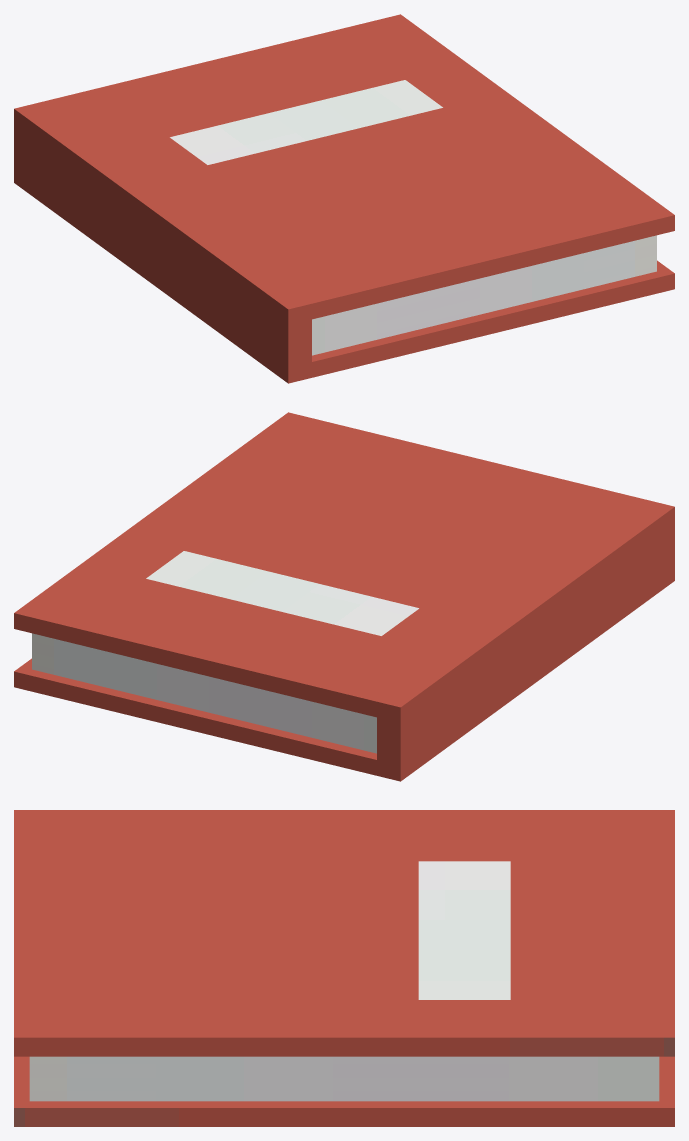
The model's file is CHAHIN_NOTEBOOK.obj.
3 renders of one model, top to bottom at view 1: azimuth 30°, elevation 25°; view 2: azimuth 150°, elevation 25°; view 3: azimuth 270°, elevation 25°, orthographic. The views are drawn at different scales.
Parts seen in each view (by area): view 1: Cube.007_Cube.006; view 2: Cube.007_Cube.006; view 3: Cube.007_Cube.006.
Part boxes in pixels (bbox=[...]): Cube.007_Cube.006: bbox=[14, 14, 674, 383]; Cube.007_Cube.006: bbox=[14, 412, 674, 781]; Cube.007_Cube.006: bbox=[14, 810, 674, 1126].
Size of the model in its own units: 0.718 by 0.1316 by 0.8821.
2 materials, 2 textured.
